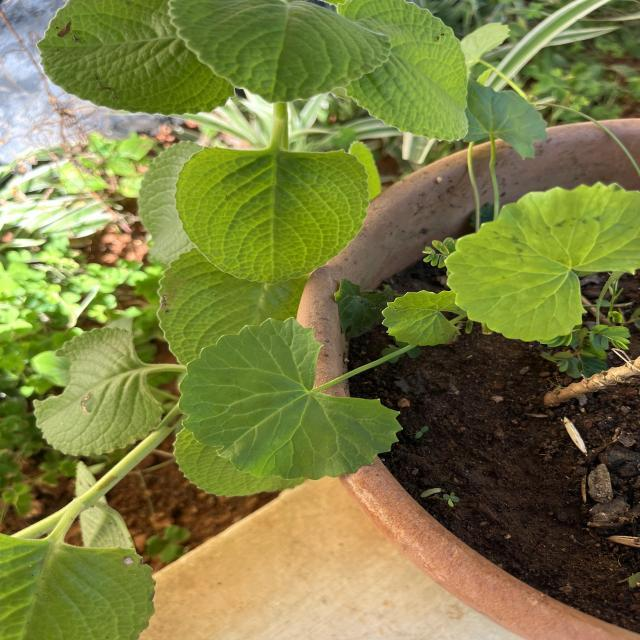Centella asiatica: (176, 312, 407, 488), (441, 178, 640, 344), (378, 288, 468, 348)
